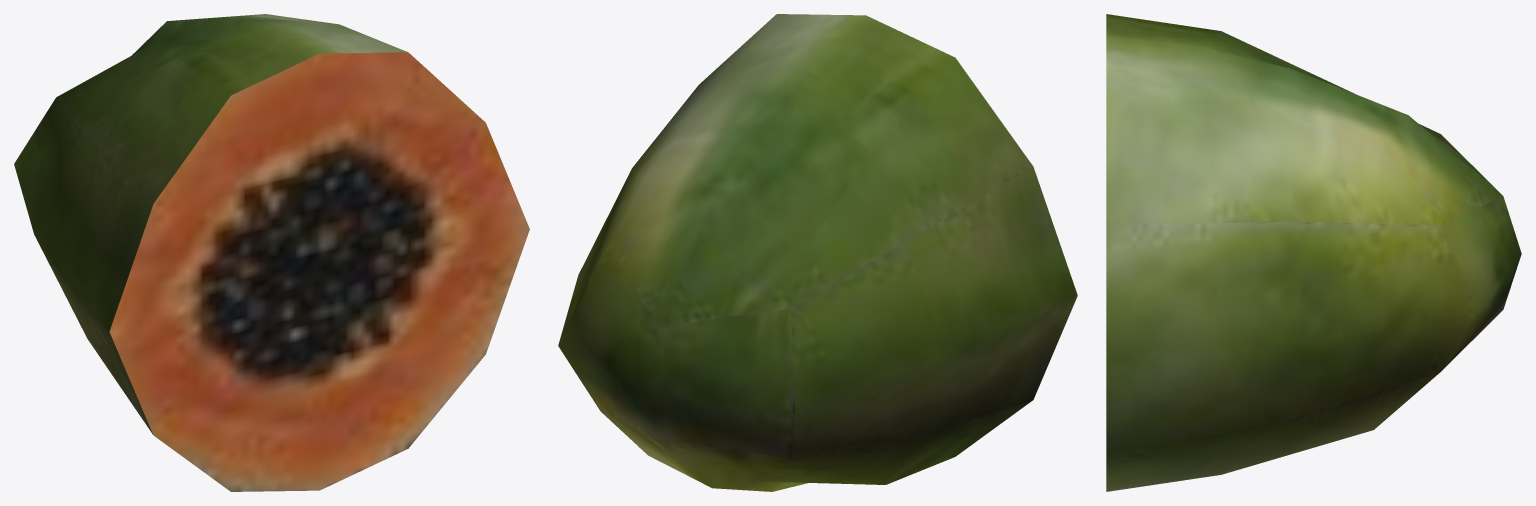
File: Papaya_03.glb
3 views of the same model, side by side, from view 1: azimuth 30°, elevation 25°; view 2: azimuth 150°, elevation 25°; view 3: azimuth 270°, elevation 25° (orthographic).
Parts seen in each view (by area): view 1: Papaya_03; view 2: Papaya_03; view 3: Papaya_03.
Part boxes in pixels (x1,y1,x2,y2): Papaya_03: (14, 14, 529, 491); Papaya_03: (558, 14, 1077, 491); Papaya_03: (1106, 14, 1521, 491).
Size of the model in its own units: 0.1684 by 0.1673 by 0.1457.
Materials: 1 (1 with a texture image).
